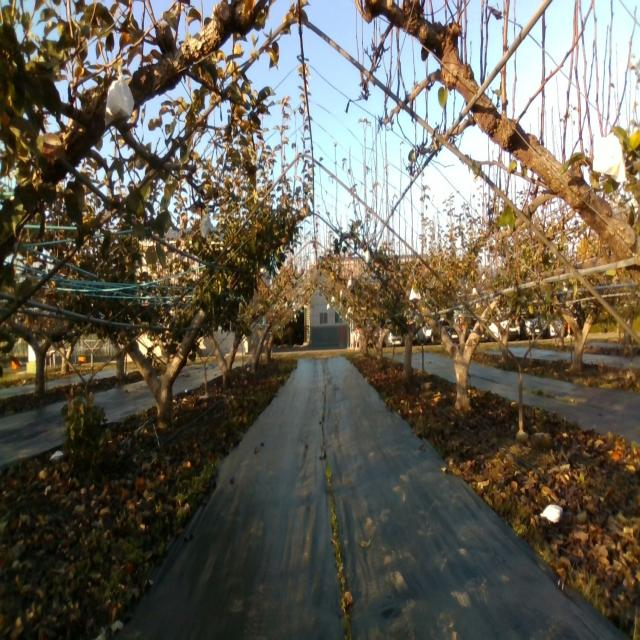pearbags: (104, 65, 134, 127), (593, 132, 627, 184), (200, 205, 212, 238)
